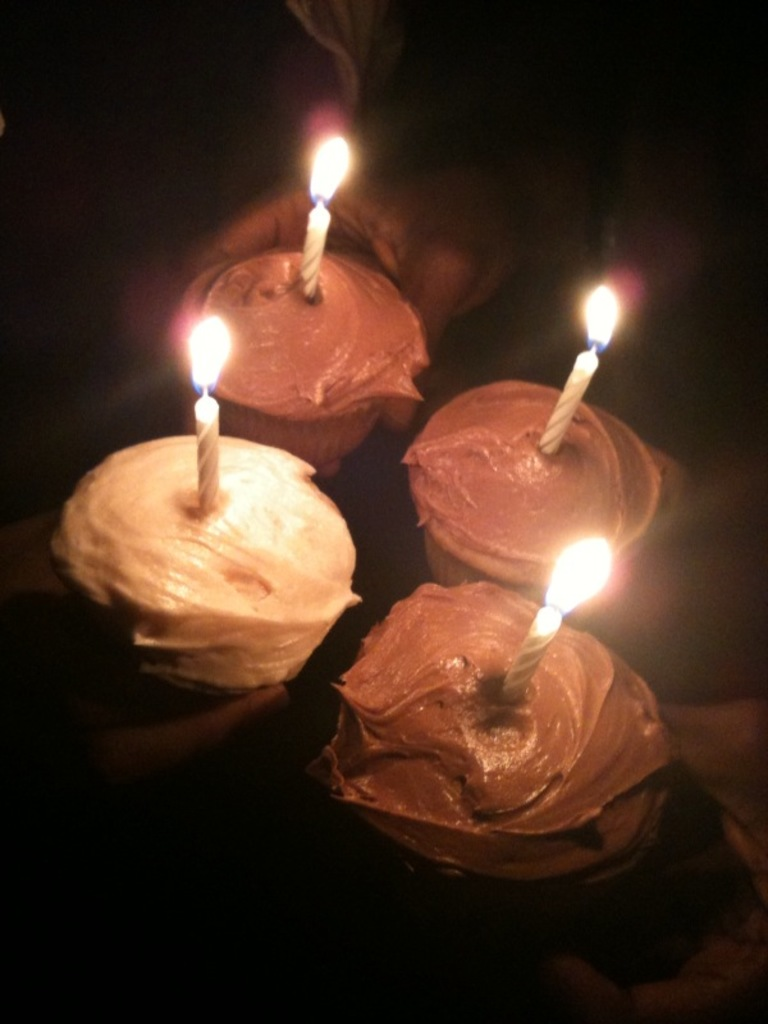cake: (288, 571, 666, 920), (28, 422, 361, 714), (396, 369, 695, 623), (159, 229, 428, 477)
